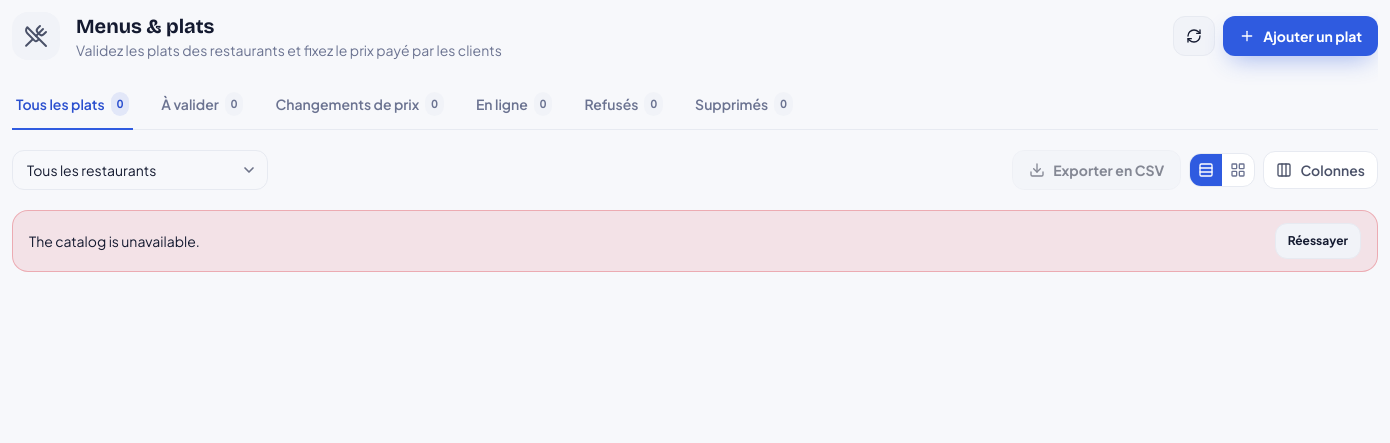
it: CatalogPanel › shows the error in plain words, lets the admin retry, and passes the error up for logout handling
This screenshot has width=1390, height=443.
expect the message "The catalog is unavailable. Réessayer" is shown: met, box [12,210,1378,272]
Click the button "Réessayer".
click(1318, 241)  # box [1275,223,1361,259]
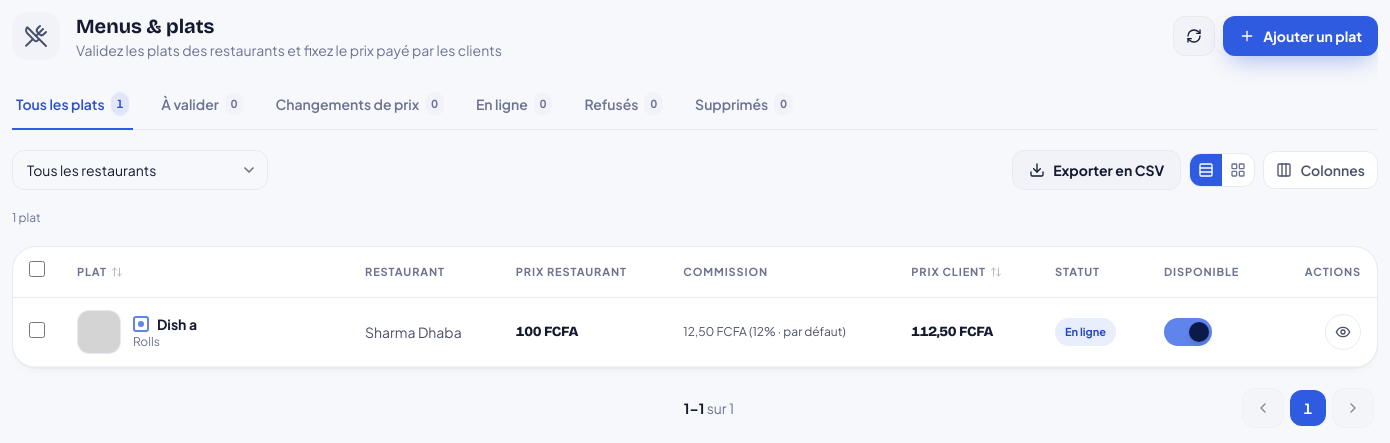
expect the text "Dish a" is shown: met, box [157,314,197,334]
